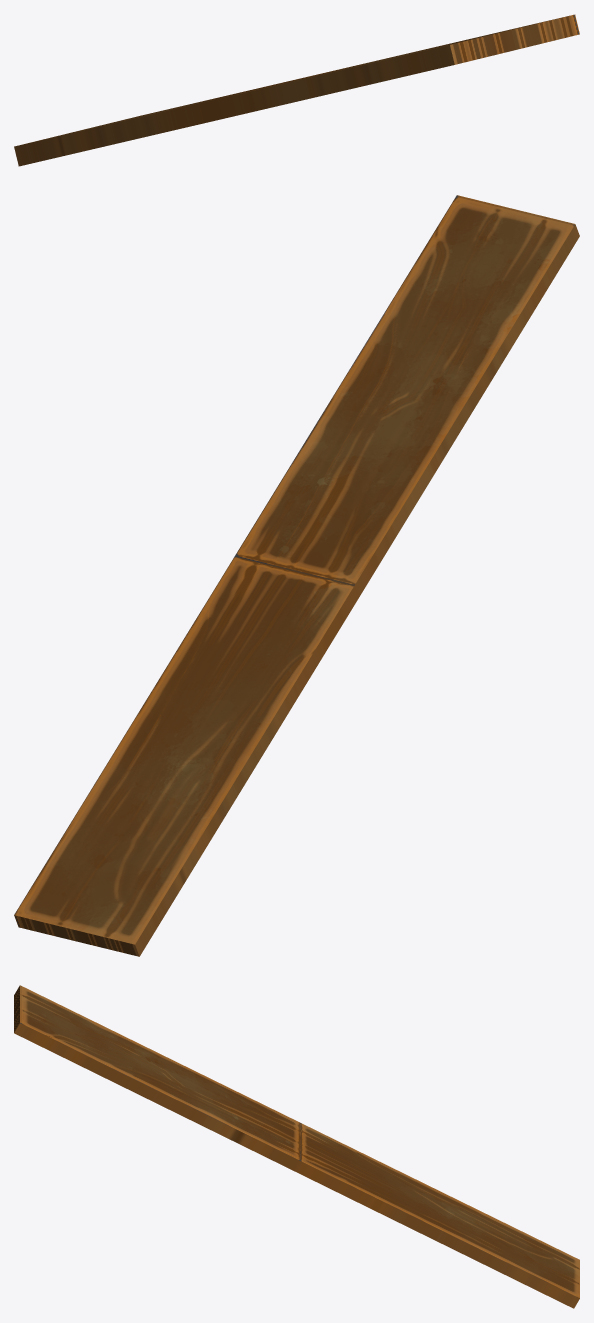
3 views of the same model, one above another, from view 1: azimuth 30°, elevation 25°; view 2: azimuth 150°, elevation 25°; view 3: azimuth 270°, elevation 25° (orthographic). The views are drawn at different scales.
Visible parts, largest first — view 1: Cube.2111; view 2: Cube.2111; view 3: Cube.2111.
Part boxes in pixels (<box>): Cube.2111: <box>14,14,579,166</box>; Cube.2111: <box>14,195,579,956</box>; Cube.2111: <box>14,985,579,1308</box>.
Bounding box in the file's own units: 129 × 392 × 716.
1 material, 1 textured.
